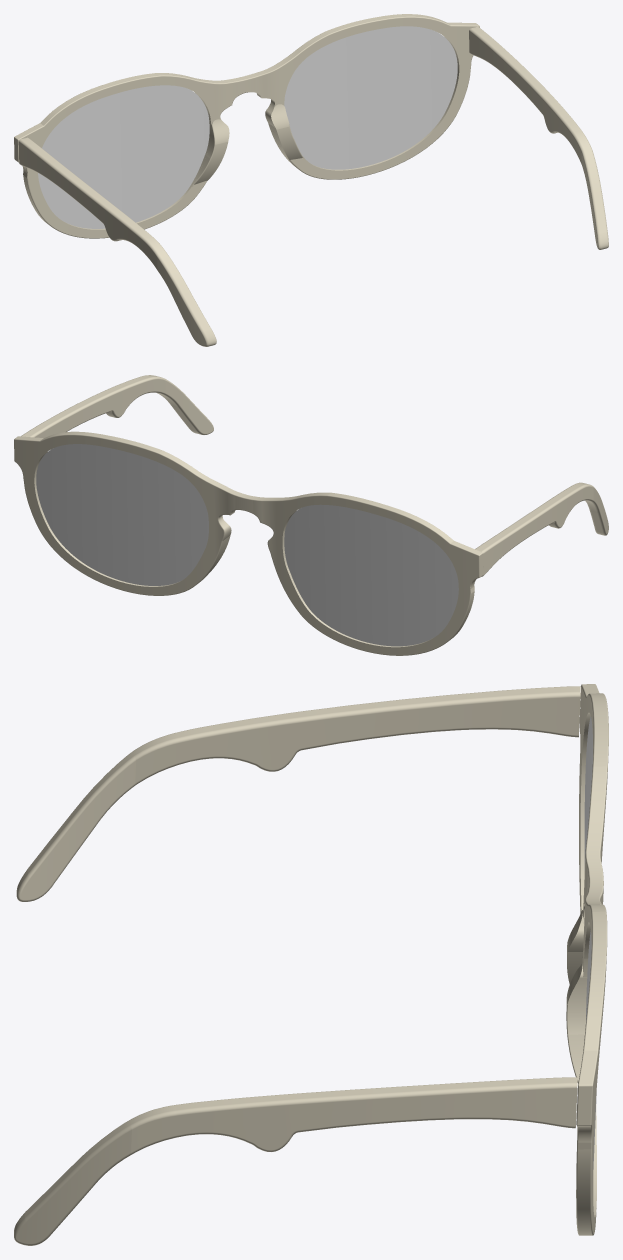
Rendered from done21.fbx.
3 views of the same model, one above another, from view 1: azimuth 30°, elevation 25°; view 2: azimuth 150°, elevation 25°; view 3: azimuth 270°, elevation 25° (orthographic). The views are drawn at different scales.
Parts seen in each view (by area): view 1: Body_2_2, Body_1_4, Body_1, Body_1_2, Body_1_3, Body_3, Body_2; view 2: Body_1_4, Body_2_2, Body_1, Body_1_3, Body_1_2; view 3: Body_1_2, Body_1_3, Body_1, Body_2, Body_3, Body_1_4.
Part boxes in pixels (x1=…): Body_2_2: x1=284, y1=26, x2=457, y2=169; Body_1_4: x1=38, y1=85, x2=209, y2=228; Body_1: x1=14, y1=14, x2=479, y2=238; Body_1_2: x1=18, y1=137, x2=216, y2=346; Body_1_3: x1=469, y1=26, x2=608, y2=249; Body_3: x1=192, y1=119, x2=229, y2=186; Body_2: x1=268, y1=104, x2=304, y2=162; Body_1_4: x1=284, y1=504, x2=458, y2=646; Body_2_2: x1=36, y1=444, x2=208, y2=585; Body_1: x1=14, y1=431, x2=483, y2=655; Body_1_3: x1=21, y1=375, x2=213, y2=437; Body_1_2: x1=475, y1=482, x2=608, y2=576; Body_1_2: x1=16, y1=686, x2=580, y2=901; Body_1_3: x1=14, y1=1077, x2=577, y2=1245; Body_1: x1=576, y1=684, x2=608, y2=1235; Body_2: x1=566, y1=963, x2=587, y2=1083; Body_3: x1=567, y1=910, x2=584, y2=984; Body_1_4: x1=584, y1=716, x2=592, y2=870.
Bounding box in the file's own units: 17.33 × 5.42 × 10.75.
